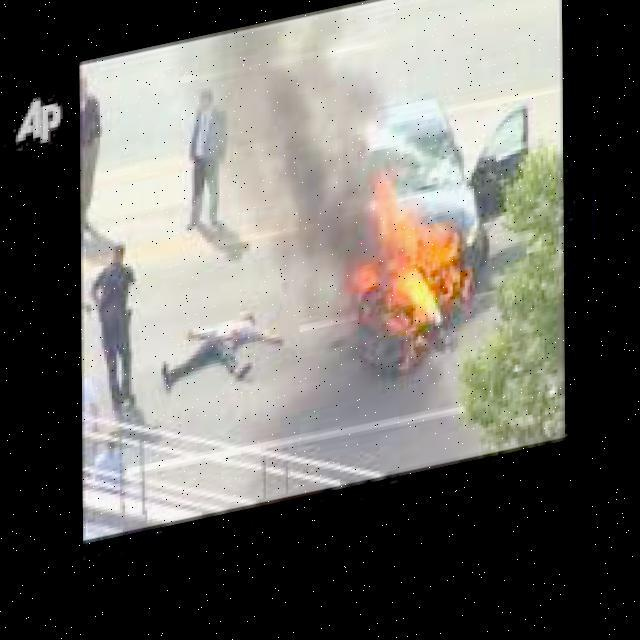Fire: (332, 202, 482, 412)
